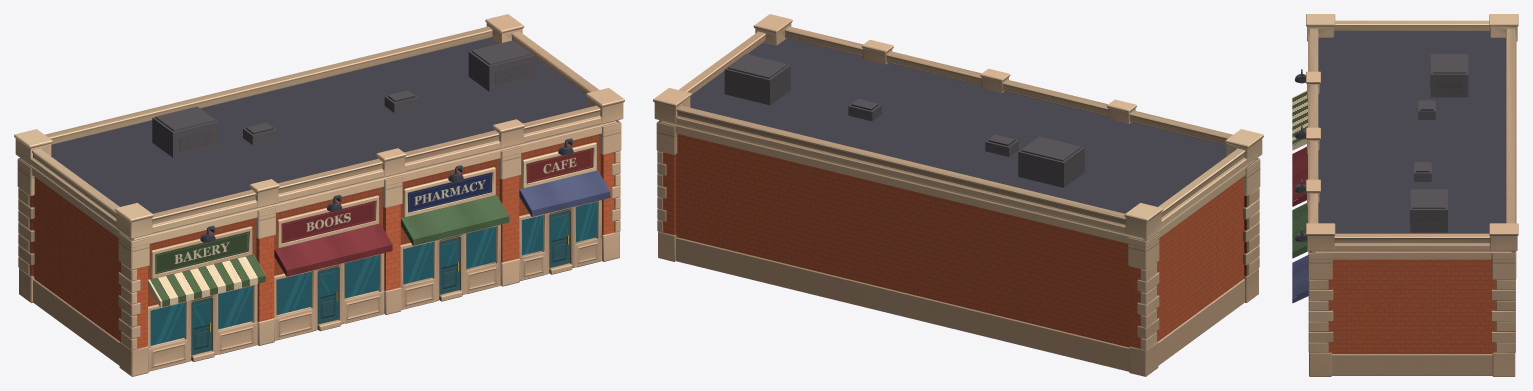
The model's file is houdini_shop_row.glb.
3 views of the same model, side by side, from view 1: azimuth 30°, elevation 25°; view 2: azimuth 150°, elevation 25°; view 3: azimuth 270°, elevation 25° (orthographic). The views are drawn at different scales.
Parts seen in each view (by area): view 1: LOD0; view 2: LOD0; view 3: LOD0.
Part boxes in pixels (x1=…): LOD0: x1=14, y1=14, x2=624, y2=376; LOD0: x1=653, y1=14, x2=1263, y2=376; LOD0: x1=1292, y1=14, x2=1518, y2=376.
Size of what is drawn, in the model's own units: 20.69 by 6.82 by 9.01.
Materials: 5 (5 with a texture image).
